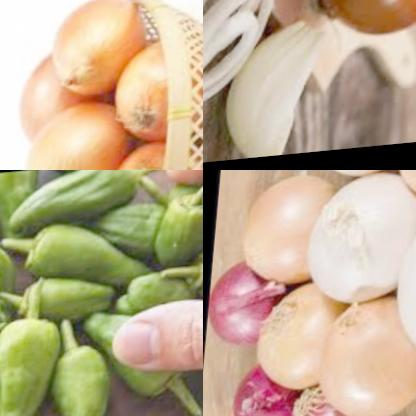hot pepper: (87, 311, 203, 416), (0, 275, 84, 416), (0, 216, 151, 293), (1, 170, 162, 233), (45, 309, 124, 416), (150, 170, 203, 270), (117, 262, 203, 323), (97, 198, 180, 258), (0, 224, 26, 343), (176, 238, 203, 308)
onion: (219, 12, 334, 163), (303, 170, 416, 317), (314, 293, 416, 416), (252, 288, 353, 409), (35, 0, 144, 111), (235, 173, 328, 293), (203, 0, 294, 113), (108, 42, 182, 156), (209, 252, 292, 352), (14, 55, 92, 151), (19, 100, 123, 170), (389, 192, 416, 379), (224, 357, 304, 416), (284, 380, 401, 416), (101, 142, 174, 170)
